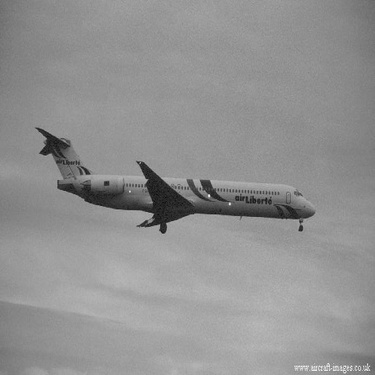airplane: (23, 111, 320, 248)
